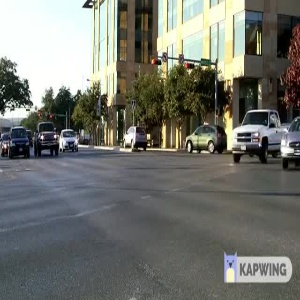car: (58, 126, 86, 152)
suv: (179, 122, 229, 158), (114, 121, 155, 155)
truck: (220, 107, 292, 164), (35, 119, 59, 165)
van: (4, 124, 36, 161)
